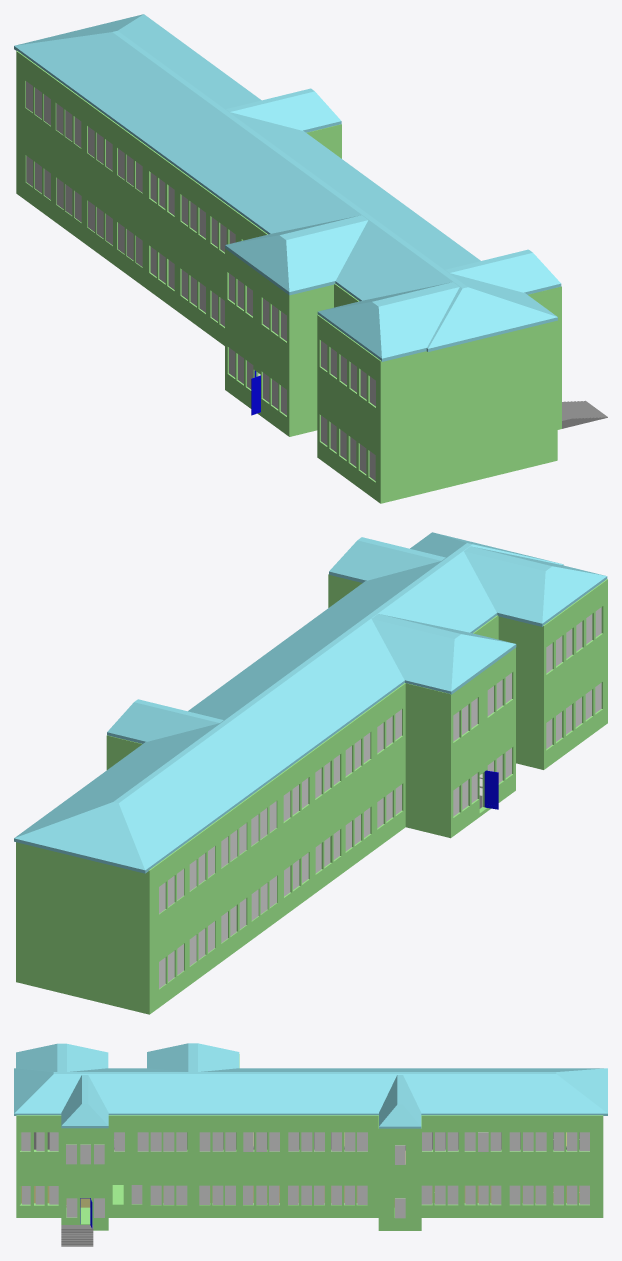
File: kazarmakrisha.FBX
The picture shows the model from 3 angles, top to bottom: view 1: azimuth 30°, elevation 25°; view 2: azimuth 150°, elevation 25°; view 3: azimuth 270°, elevation 25°; orthographic projection. The views are drawn at different scales.
Parts seen in each view (by area): view 1: Plane002, Object008, Object011, Object009, Object010, Object012, StraightStair003; view 2: Plane002, Object008, Object011, Object009, Object010, Object012; view 3: Plane002, Object008, Object011, Object009, Object010, Object012, StraightStair003, steni, Object026.
Part boxes in pixels (x1,y1,x2,y2): Plane002: (16, 51, 561, 503); Object008: (14, 14, 557, 351); Object011: (225, 215, 368, 295); Object009: (317, 282, 459, 361); Object010: (445, 249, 561, 294); Object012: (226, 88, 341, 132); StraightStair003: (562, 400, 607, 428); Plane002: (16, 574, 607, 1014); Object008: (14, 532, 563, 873); Object011: (371, 614, 516, 694); Object009: (464, 546, 607, 626); Object010: (329, 537, 445, 582); Object012: (107, 699, 223, 743); Plane002: (16, 1054, 603, 1230); Object008: (14, 1068, 607, 1115); Object011: (147, 1043, 239, 1071); Object009: (16, 1043, 108, 1071); Object010: (61, 1075, 108, 1128); Object012: (379, 1075, 421, 1128); StraightStair003: (61, 1225, 93, 1246); steni: (21, 1132, 579, 1207); Object026: (34, 1132, 579, 1150).
Size of the model in its own units: 1100 by 666 by 2931.
